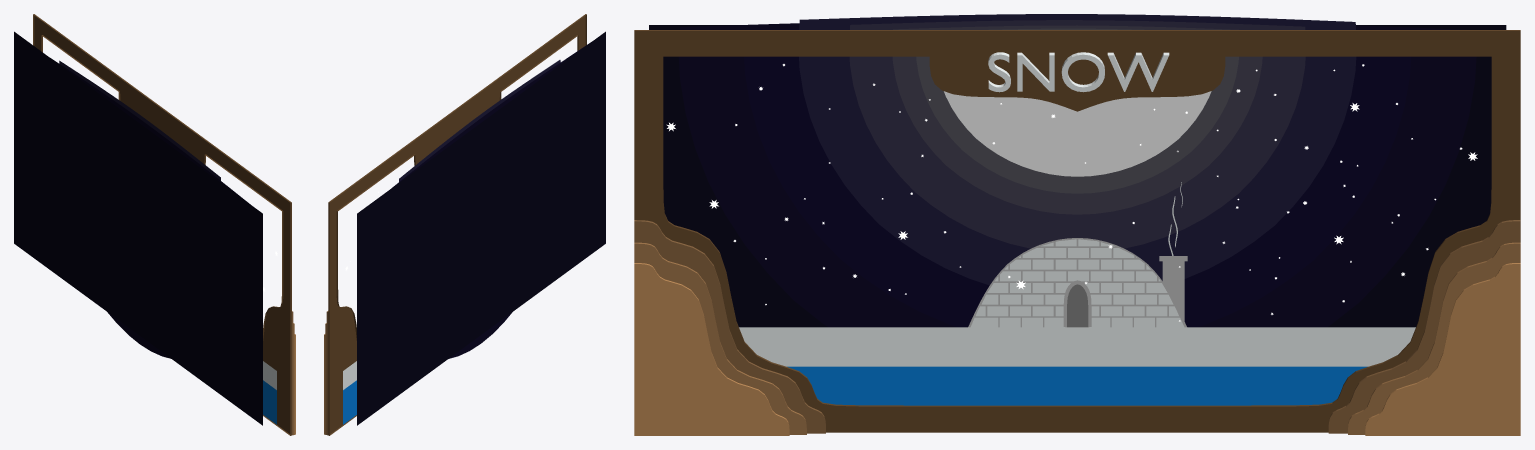
Rendered from Snow_scene.glb.
3 renders of one model, left to right at view 1: azimuth 30°, elevation 25°; view 2: azimuth 150°, elevation 25°; view 3: azimuth 270°, elevation 25°, orthographic. The views are drawn at different scales.
Visible parts, largest first — view 1: Sky, SnowWoodFront, Moon.006, Moon.004, Sea, SnowFloor; view 2: Sky, SnowWoodFront, Moon.006, Moon.004, Sea, SnowWoodOrnement1R, SnowFloor; view 3: SnowWoodFront, Moon.006, Moon.005, Moon.004, Moon.003, SnowFloor, Sky, Sea, SnowWoodOrnement3R, SnowWoodOrnement3L, Moon, Moon.002 (+11 smaller).
Boxes of the visible parts, box(x1,y1,x2,y2) form: Sky: box(14, 31, 262, 425); SnowWoodFront: box(33, 14, 291, 435); Moon.006: box(51, 58, 250, 358); Moon.004: box(59, 60, 220, 180); Sea: box(263, 380, 276, 424); SnowFloor: box(263, 361, 276, 389); Sky: box(357, 31, 605, 425); SnowWoodFront: box(328, 14, 586, 435); Moon.006: box(392, 42, 590, 358); Moon.004: box(399, 60, 560, 181); Sea: box(343, 380, 356, 424); SnowWoodOrnement1R: box(326, 311, 328, 435); SnowFloor: box(343, 361, 356, 389); SnowWoodFront: box(634, 30, 1520, 432); Moon.006: box(678, 23, 1476, 327); Moon.005: box(744, 28, 1411, 327); Moon.004: box(799, 14, 1356, 285); Moon.003: box(849, 20, 1305, 248); SnowFloor: box(739, 327, 1415, 366); Sky: box(649, 25, 1506, 327); Sea: box(787, 366, 1367, 405); SnowWoodOrnement3R: box(1365, 263, 1520, 435); SnowWoodOrnement3L: box(634, 263, 789, 435); Moon: box(944, 91, 1211, 176); Moon.002: box(892, 25, 1262, 214).
Size of the model in its own units: 0.1931 by 1.5 by 3.
